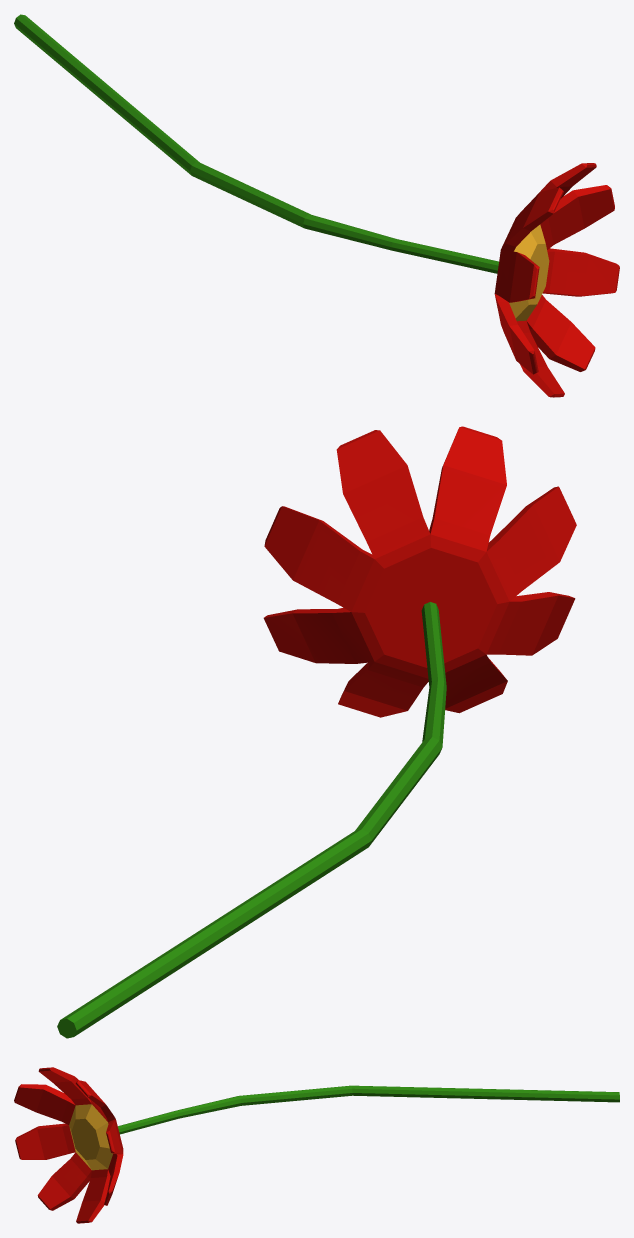
The model's file is H_Flower.fbx.
3 views of the same model, one above another, from view 1: azimuth 30°, elevation 25°; view 2: azimuth 150°, elevation 25°; view 3: azimuth 270°, elevation 25° (orthographic). The views are drawn at different scales.
Visible parts, largest first — view 1: H_Flower; view 2: H_Flower; view 3: H_Flower.
Boxes of the visible parts, x1,y1,x2,y2 form: H_Flower: (14,14,619,397); H_Flower: (57,426,576,1038); H_Flower: (14,1067,619,1223).
Size of the model in its own units: 64.62 by 195 by 51.07.
